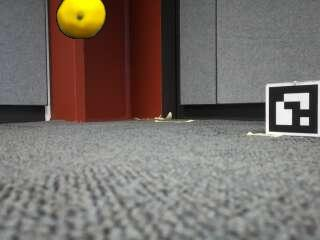lemon: (56, 0, 105, 39)
